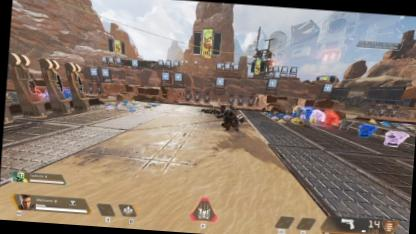Target: (216, 102, 245, 132)
